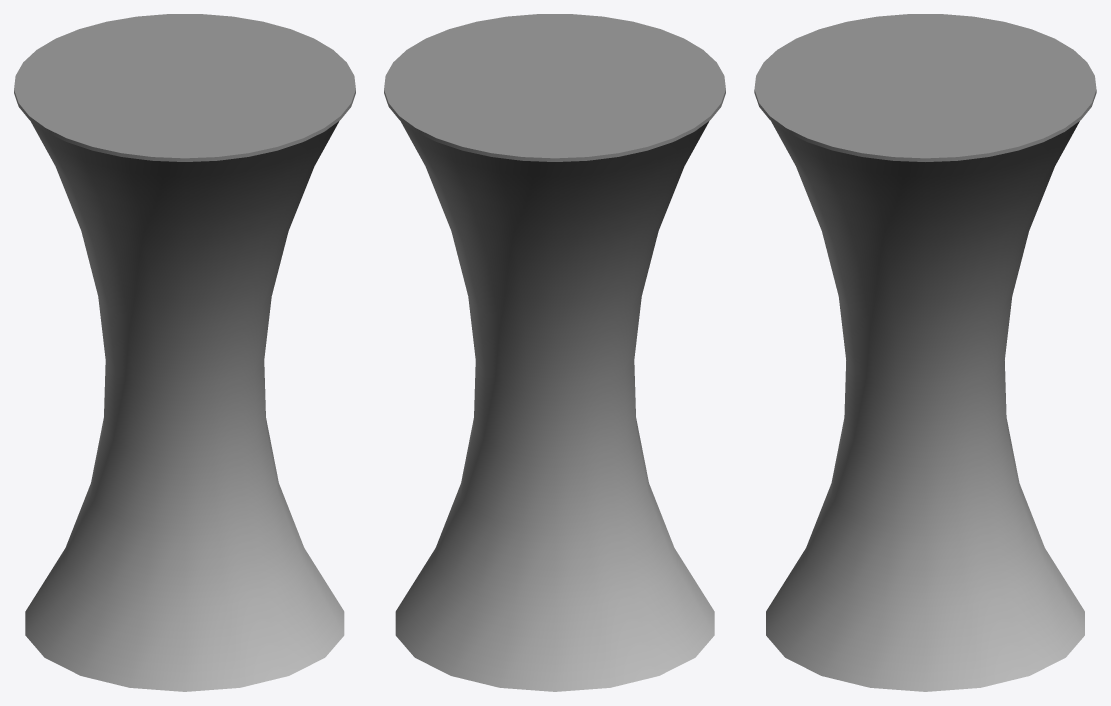
File: LedTable02.FBX
3 views of the same model, side by side, from view 1: azimuth 30°, elevation 25°; view 2: azimuth 150°, elevation 25°; view 3: azimuth 270°, elevation 25° (orthographic).
Parts seen in each view (by area): view 1: LedTable02; view 2: LedTable02; view 3: LedTable02.
Boxes of the visible parts, x1,y1,x2,y2 form: LedTable02: [14, 14, 355, 691]; LedTable02: [384, 14, 725, 691]; LedTable02: [754, 14, 1096, 691].
Bounding box in the file's own units: 69.19 × 120 × 69.27.
